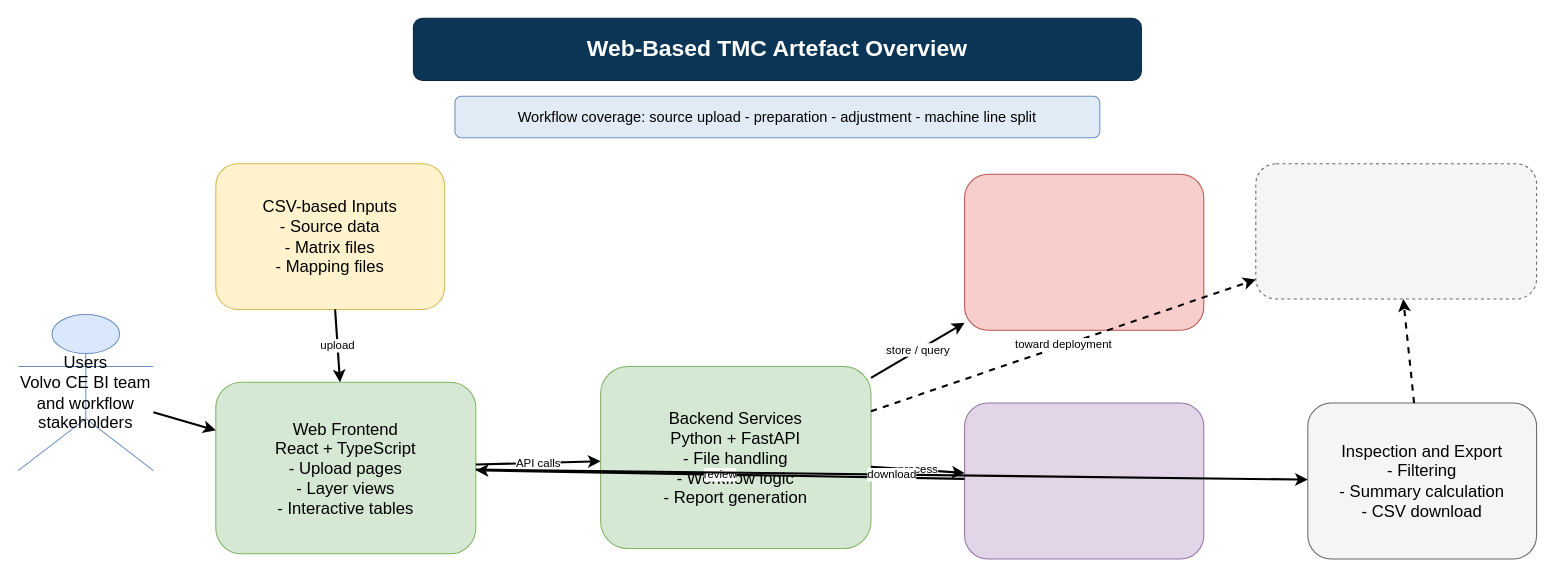
Image size: 1555x577. Some labels were removed from this diagram. Here are the shapes that lost their labels. From the top down, the centre of each, then its label:
At point 1084,251: "Structured Storage SQLite - Uploaded records - Mappings - Derived outputs".
At point 1396,231: "Future Internal Use Volvo CE internal deployment and infrastructure integration".
At point 1084,480: "Workflow Outputs - Preparation - Adjustment - Split-related results".
